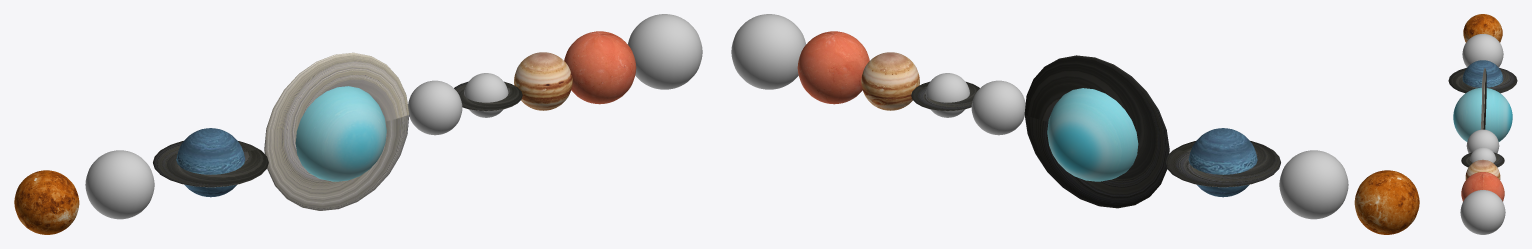
The model's file is planet-pack.dae.
3 renders of one model, left to right at view 1: azimuth 30°, elevation 25°; view 2: azimuth 150°, elevation 25°; view 3: azimuth 270°, elevation 25°, orthographic. The views are drawn at different scales.
Parts seen in each view (by area): view 1: Torus1, Sphere3, Sphere8, Sphere7, Sphere1, Sphere, Sphere2, Sphere6, Torus, Sphere4, Sphere5, Torus2; view 2: Torus1, Sphere3, Sphere8, Sphere7, Sphere1, Sphere, Sphere2, Sphere6, Torus, Sphere4, Sphere5, Torus2; view 3: Sphere3, Sphere8, Sphere1, Sphere2, Sphere7, Sphere, Torus, Sphere4, Sphere6, Sphere5, Torus1, Torus2.
Boxes of the visible parts, x1=… form: Torus1: x1=264, y1=52, x2=409, y2=210; Sphere3: x1=295, y1=86, x2=386, y2=181; Sphere8: x1=627, y1=14, x2=702, y2=89; Sphere7: x1=564, y1=31, x2=636, y2=104; Sphere1: x1=85, y1=150, x2=154, y2=219; Sphere: x1=14, y1=170, x2=79, y2=234; Sphere2: x1=176, y1=128, x2=245, y2=197; Sphere6: x1=514, y1=52, x2=572, y2=110; Torus: x1=153, y1=141, x2=268, y2=187; Sphere4: x1=408, y1=80, x2=462, y2=135; Sphere5: x1=464, y1=73, x2=508, y2=117; Torus2: x1=454, y1=81, x2=522, y2=111; Torus1: x1=1024, y1=55, x2=1169, y2=208; Sphere3: x1=1047, y1=88, x2=1138, y2=181; Sphere8: x1=731, y1=14, x2=806, y2=89; Sphere7: x1=797, y1=31, x2=869, y2=104; Sphere1: x1=1279, y1=150, x2=1348, y2=219; Sphere: x1=1354, y1=170, x2=1419, y2=234; Sphere2: x1=1188, y1=128, x2=1257, y2=197; Sphere6: x1=861, y1=52, x2=919, y2=110; Torus: x1=1165, y1=141, x2=1280, y2=187; Sphere4: x1=971, y1=80, x2=1025, y2=135; Sphere5: x1=925, y1=73, x2=969, y2=117; Torus2: x1=911, y1=81, x2=979, y2=111; Sphere3: x1=1453, y1=87, x2=1512, y2=141; Sphere8: x1=1460, y1=190, x2=1505, y2=234; Sphere1: x1=1462, y1=34, x2=1503, y2=67; Sphere2: x1=1462, y1=60, x2=1503, y2=87; Sphere7: x1=1461, y1=172, x2=1504, y2=201; Sphere: x1=1463, y1=14, x2=1502, y2=42; Torus: x1=1448, y1=67, x2=1517, y2=93; Sphere4: x1=1466, y1=129, x2=1499, y2=153; Sphere6: x1=1465, y1=159, x2=1500, y2=179; Sphere5: x1=1469, y1=147, x2=1496, y2=162; Torus1: x1=1480, y1=68, x2=1486, y2=129; Torus2: x1=1461, y1=152, x2=1504, y2=167.
Size of the model in its own units: 7.85 by 1.68 by 1.16.
